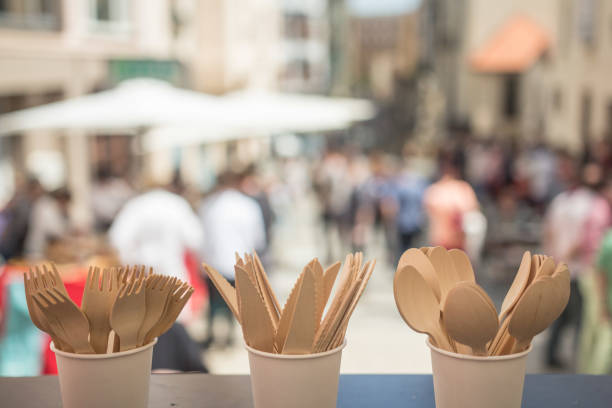Wooden Utensils: (396, 234, 579, 354), (212, 239, 377, 359), (37, 238, 190, 351)
